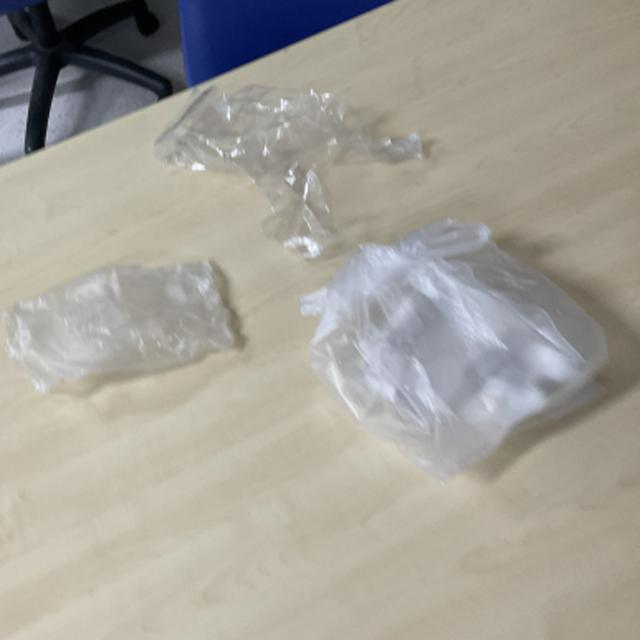Single-layer Plastic: (301, 219, 608, 481), (156, 85, 422, 258), (2, 261, 235, 392)
